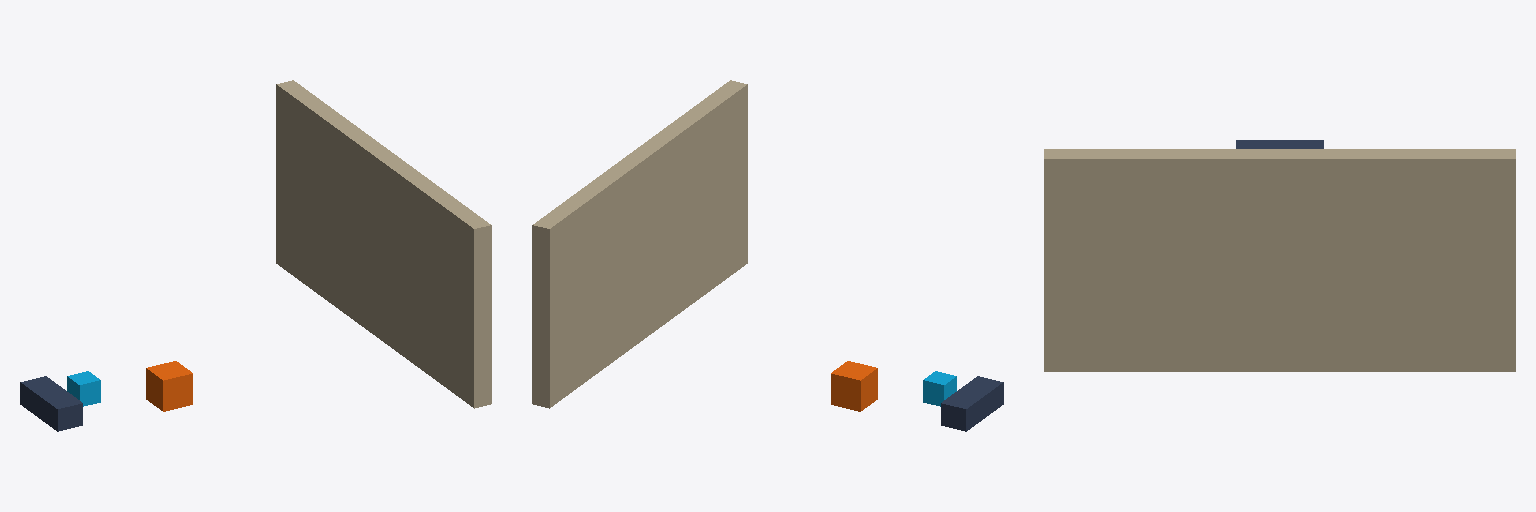
robot.urdf — sim2_basic:
<?xml version="1.0"?>
<!-- cadpy:sourcePath=gen_scene.py -->
<!-- cadpy:sourceHash=69137d3b7778133d3b2fa24147b47b25bbc772382331e4f8773053012d8137fc -->
<robot name="sim2_basic">
  <link name="assets" />
  <link name="base">
    <inertial>
      <origin xyz="-.55 0 .05" />
      <mass value="2.0" />
      <inertia ixx="0.016666666666666666" iyy="0.004066666666666667" izz="0.0174" ixy="0" ixz="0" iyz="0" />
    </inertial>
    <visual>
      <origin xyz="-.55 0 .05" />
      <geometry>
        <box size="0.12 0.3 0.1" />
      </geometry>
      <material name="base">
        <color rgba=".25 .3 .4 1" />
      </material>
    </visual>
    <collision>
      <origin xyz="-.55 0 .05" />
      <geometry>
        <box size="0.12 0.3 0.1" />
      </geometry>
    </collision>
  </link>
  <link name="tool">
    <inertial>
      <origin xyz="0 0 0" />
      <mass value="0.3" />
      <inertia ixx="0.0005000000000000001" iyy="0.0005000000000000001" izz="0.0005000000000000001" ixy="0" ixz="0" iyz="0" />
    </inertial>
    <visual>
      <origin xyz="0 0 0" />
      <geometry>
        <box size="0.1 0.1 0.1" />
      </geometry>
      <material name="tool">
        <color rgba=".1 .7 .9 1" />
      </material>
    </visual>
    <collision>
      <origin xyz="0 0 0" />
      <geometry>
        <box size="0.1 0.1 0.1" />
      </geometry>
    </collision>
  </link>
  <link name="box">
    <inertial>
      <origin xyz="0 0 0" />
      <mass value="0.3" />
      <inertia ixx="0.0009800000000000002" iyy="0.0009800000000000002" izz="0.0009800000000000002" ixy="0" ixz="0" iyz="0" />
    </inertial>
    <visual>
      <origin xyz="0 0 0" />
      <geometry>
        <box size="0.14 0.14 0.14" />
      </geometry>
      <material name="box">
        <color rgba=".95 .45 .1 1" />
      </material>
    </visual>
    <collision>
      <origin xyz="0 0 0" />
      <geometry>
        <box size="0.14 0.14 0.14" />
      </geometry>
    </collision>
  </link>
  <link name="wall">
    <inertial>
      <origin xyz="1 0 .4" />
      <mass value="5.0" />
      <inertia ixx="1.3333333333333337" iyy="0.26933333333333337" izz="1.0693333333333337" ixy="0" ixz="0" iyz="0" />
    </inertial>
    <visual>
      <origin xyz="1 0 .4" />
      <geometry>
        <box size="0.08 1.6 0.8" />
      </geometry>
      <material name="wall">
        <color rgba=".75 .7 .6 1" />
      </material>
    </visual>
    <collision>
      <origin xyz="1 0 .4" />
      <geometry>
        <box size="0.08 1.6 0.8" />
      </geometry>
    </collision>
  </link>
  <joint name="base_joint" type="fixed">
    <parent link="assets" />
    <child link="base" />
    <origin xyz="0 0 0" />
  </joint>
  <joint name="box_joint" type="fixed">
    <parent link="assets" />
    <child link="box" />
    <origin xyz="0 0 0" />
  </joint>
  <joint name="wall_joint" type="fixed">
    <parent link="base" />
    <child link="wall" />
    <origin xyz="0 0 0" />
  </joint>
  <joint name="tool_joint" type="prismatic">
    <parent link="base" />
    <child link="tool" />
    <origin xyz="-.4 0 .08" />
    <axis xyz="1 0 0" />
    <limit lower="0" upper="1" effort="80" velocity=".5" />
    <dynamics damping="2" />
  </joint>
</robot>

--- Facts derived from the render (not from the file) ---
Views: 3 orthographic renders of the robot side by side, from view 1: azimuth 30°, elevation 25°; view 2: azimuth 150°, elevation 25°; view 3: azimuth 270°, elevation 25°.
Model sim2_basic with 5 links and 4 joints (1 prismatic, 3 fixed), rooted at assets, posed all joints at 0.
Visible links, largest first — view 1: wall, base, box, tool; view 2: wall, base, box, tool; view 3: wall, base.
Boxes of the visible links, x1,y1,x2,y2 form: wall: (276, 80, 491, 408); base: (20, 376, 82, 431); box: (146, 361, 192, 411); tool: (67, 371, 100, 406); wall: (532, 80, 747, 408); base: (941, 376, 1003, 431); box: (831, 361, 877, 411); tool: (923, 371, 956, 406); wall: (1044, 149, 1515, 371); base: (1236, 140, 1323, 148).
Bounding box of the posed robot: 1.65 × 1.6 × 0.87 m (x, y, z).
Geometry: primitives only (box / cylinder / sphere), no mesh files.
